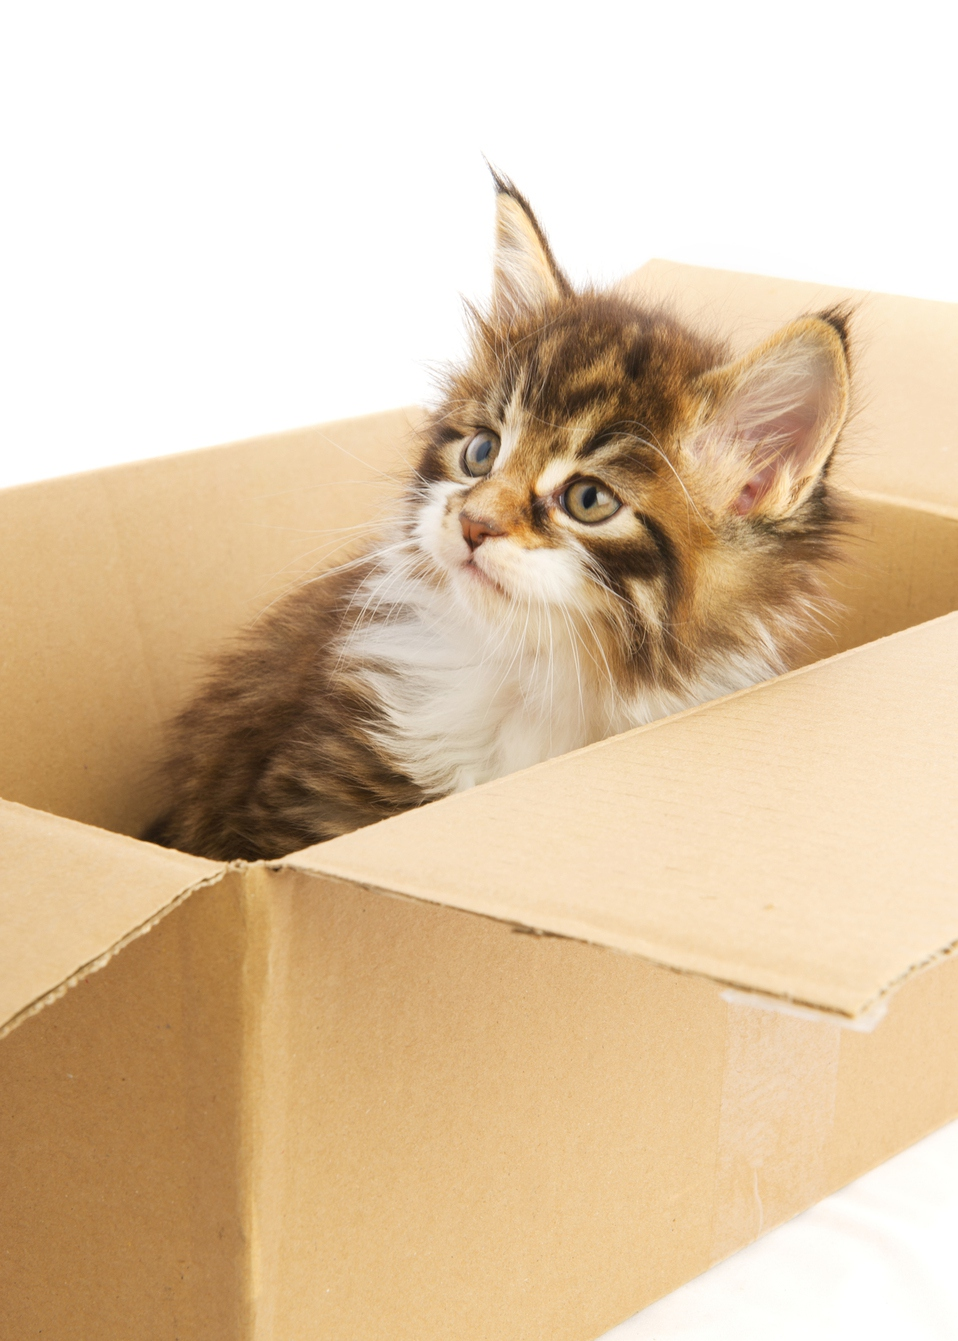cat: (115, 154, 906, 867)
cat-face: (381, 156, 868, 673)
